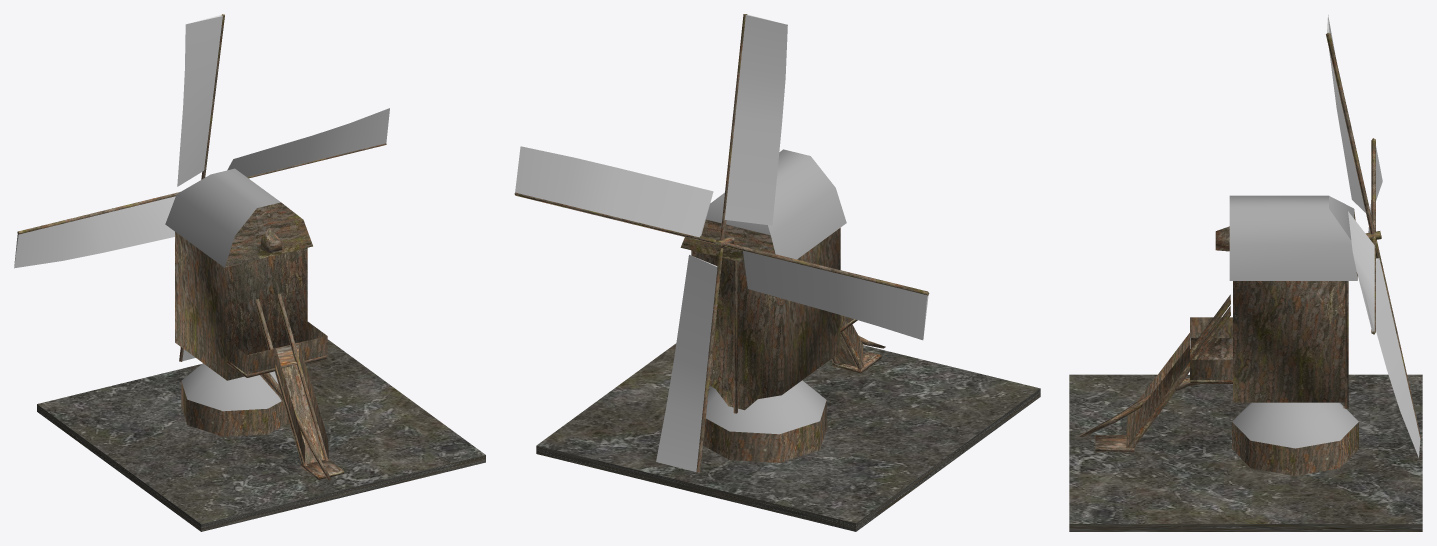
Rendered from windMill.glb.
3 renders of one model, left to right at view 1: azimuth 30°, elevation 25°; view 2: azimuth 150°, elevation 25°; view 3: azimuth 270°, elevation 25°, orthographic. The views are drawn at different scales.
Parts seen in each view (by area): view 1: standardmolen, Cube; view 2: standardmolen, Cube; view 3: standardmolen, Cube.
Part boxes in pixels (x1,y1,x2,y2): standardmolen: (14, 14, 389, 480); Cube: (37, 339, 485, 531); standardmolen: (514, 14, 929, 472); Cube: (536, 343, 1040, 531); standardmolen: (1079, 15, 1421, 475); Cube: (1069, 374, 1422, 531).
Bounding box in the file's own units: 1.99 × 2.04 × 1.54.
4 materials, 2 textured.
